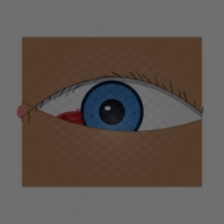hemorrhage_spot: (46, 97, 106, 144)
